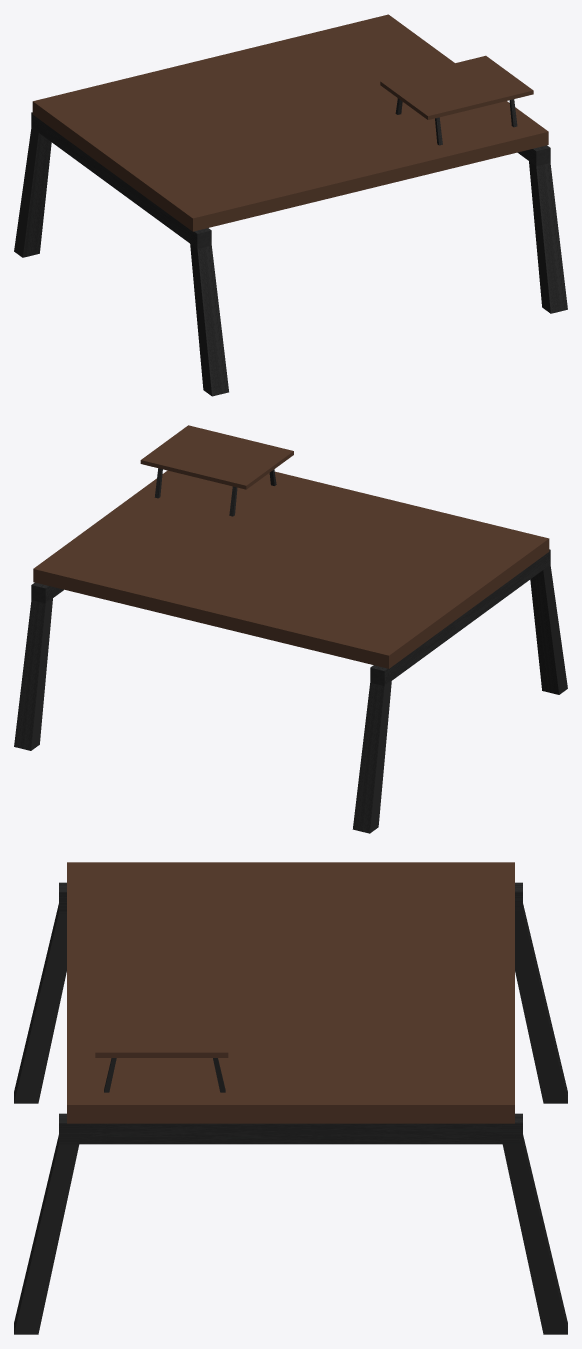
File: Desk_plant+rom.fbx
The picture shows the model from 3 angles, top to bottom: view 1: azimuth 30°, elevation 25°; view 2: azimuth 150°, elevation 25°; view 3: azimuth 270°, elevation 25°; orthographic projection. The views are drawn at different scales.
Visible parts, largest first — view 1: top, legs, top_upper; view 2: top, legs, top_upper; view 3: top, legs, top_upper.
Boxes of the visible parts, <box> form: top: <box>32,14,548,231</box>; legs: <box>14,112,567,396</box>; top_upper: <box>380,55,533,119</box>; top: <box>33,470,549,668</box>; legs: <box>14,549,567,833</box>; top_upper: <box>140,425,293,489</box>; top: <box>67,862,514,1123</box>; legs: <box>14,882,567,1334</box>; top_upper: <box>95,980,228,1057</box>.
Bounding box in the file's own units: 799 × 427 × 770.
2 materials, 1 textured.
